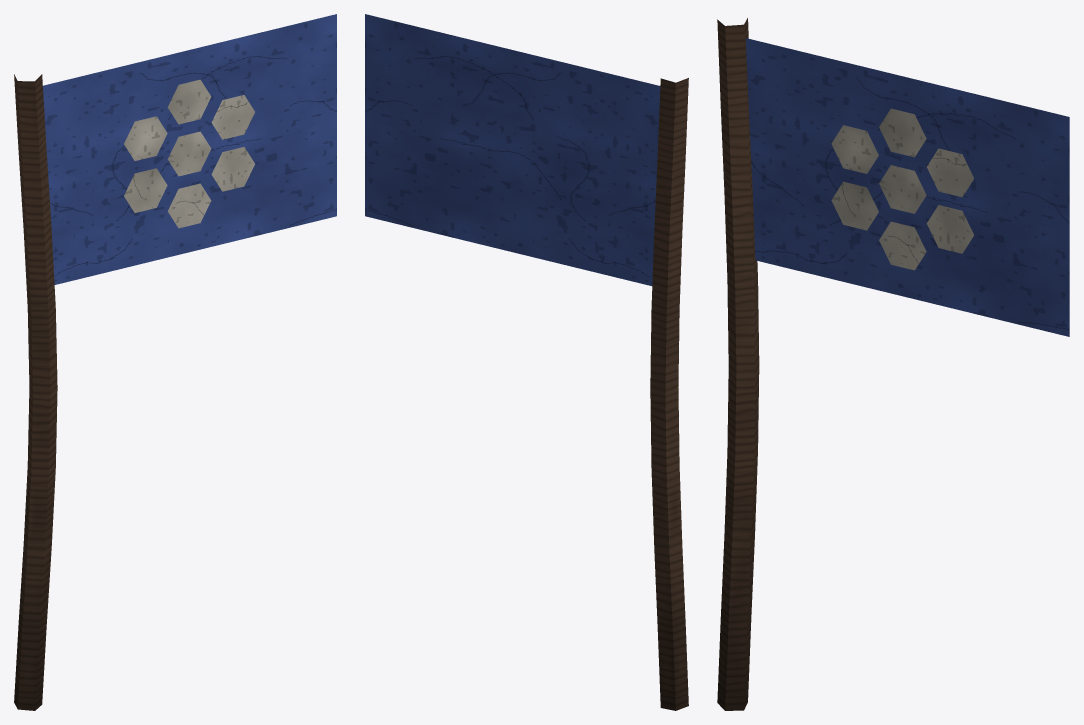
Rendered from flag_nuee.glb.
3 views of the same model, side by side, from view 1: azimuth 30°, elevation 25°; view 2: azimuth 150°, elevation 25°; view 3: azimuth 330°, elevation 25° (orthographic). The views are drawn at different scales.
Visible parts, largest first — view 1: flag_nuee, group_2; view 2: flag_nuee; view 3: flag_nuee, group_2.
Boxes of the visible parts, <box> form: flag_nuee: <box>14,14,336,710</box>; group_2: <box>124,79,254,228</box>; flag_nuee: <box>365,14,688,710</box>; flag_nuee: <box>717,18,1069,710</box>; group_2: <box>831,108,974,270</box>.
Size of the model in its own units: 7.49 by 14.03 by 0.6427.
Materials: 3 (3 with a texture image).
